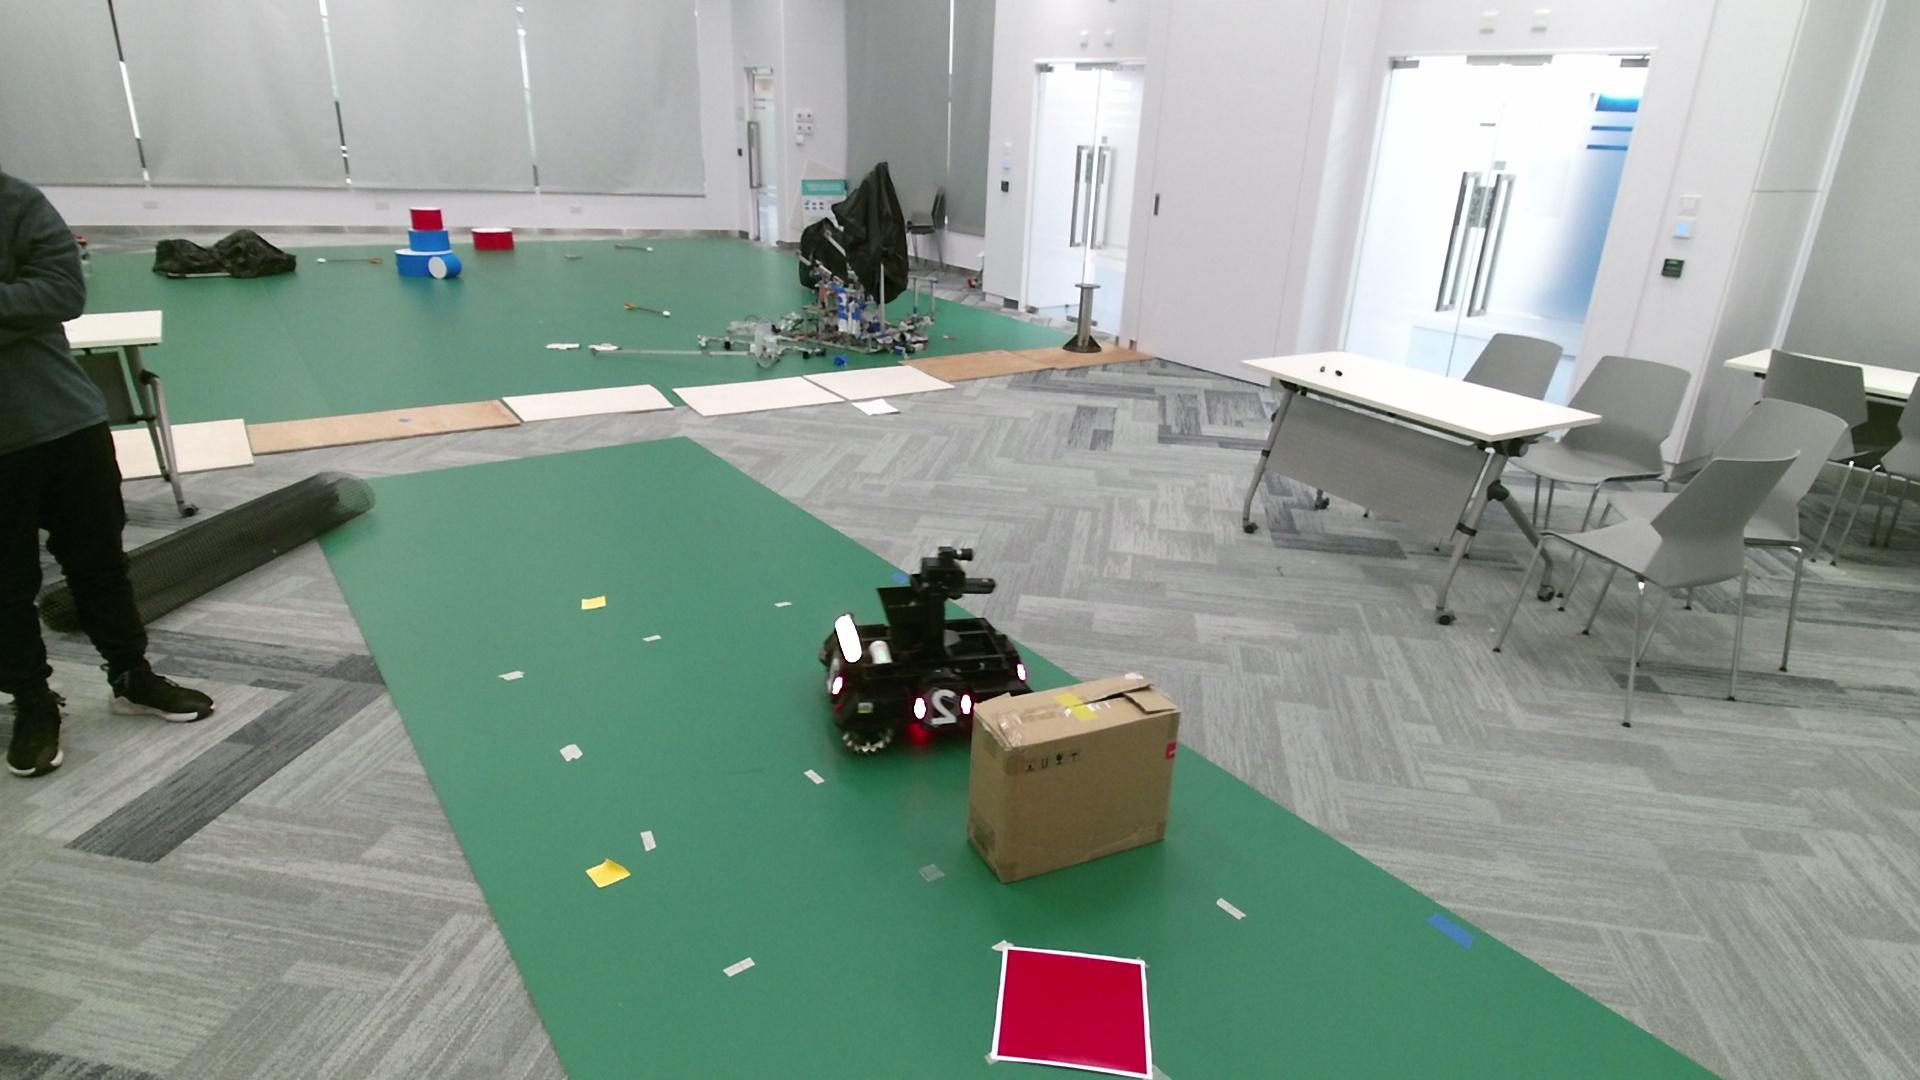robot: (818, 544, 1037, 754)
